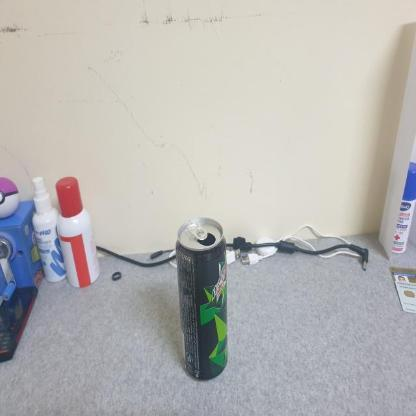Can: (172, 216, 237, 384)
